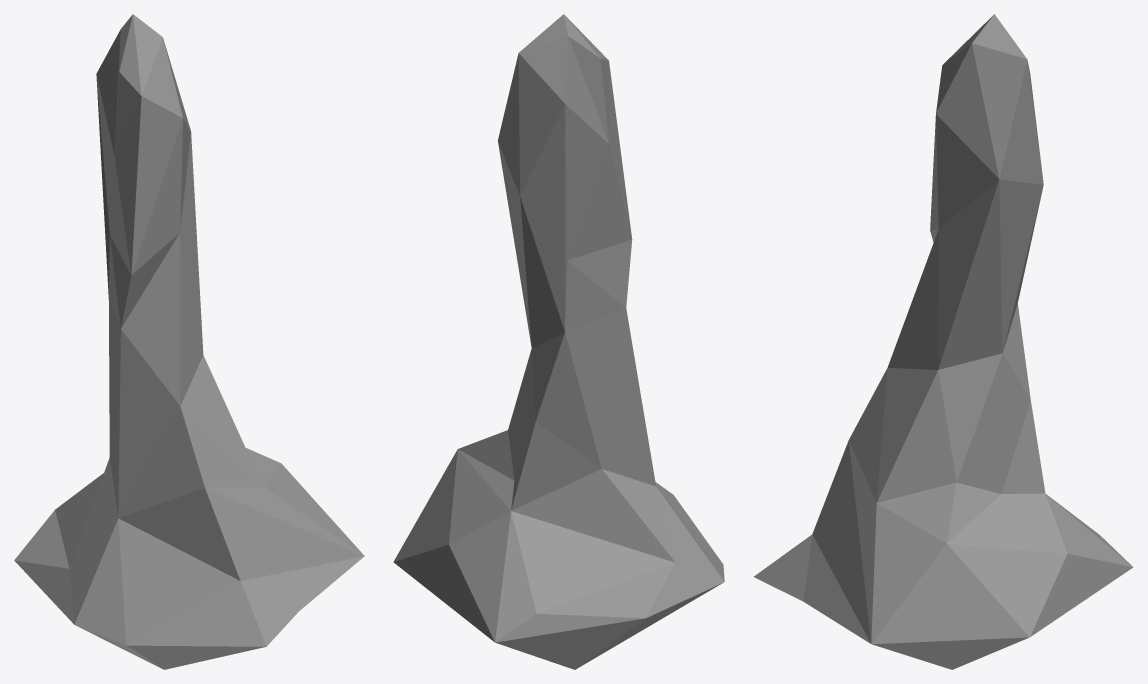
Rendered from Spike_2.glb.
3 renders of one model, left to right at view 1: azimuth 30°, elevation 25°; view 2: azimuth 150°, elevation 25°; view 3: azimuth 270°, elevation 25°, orthographic. The views are drawn at different scales.
Parts seen in each view (by area): view 1: Spike_2; view 2: Spike_2; view 3: Spike_2.
Boxes of the visible parts, bbox=[...] form: Spike_2: bbox=[14, 14, 364, 669]; Spike_2: bbox=[393, 14, 724, 669]; Spike_2: bbox=[753, 14, 1133, 669].
Bounding box in the file's own units: 19.86 × 44.07 × 23.33.
Materials: 1 (1 with a texture image).
